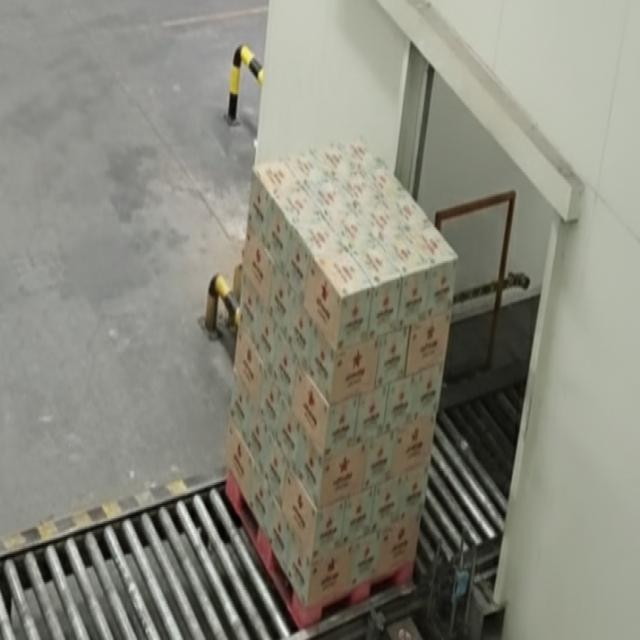pallet: (224, 138, 464, 636)
